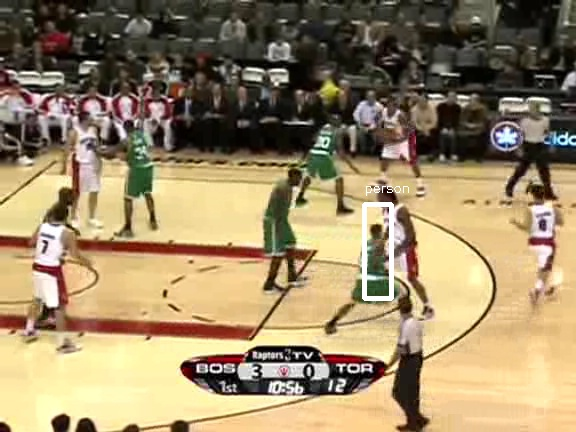person: (358, 235, 392, 316), (357, 235, 391, 316), (359, 235, 393, 316), (358, 234, 392, 315), (358, 236, 392, 317)
target_negative: (158, 17, 527, 399), (392, 230, 562, 403), (81, 214, 196, 262), (467, 396, 568, 418), (506, 226, 537, 286), (514, 280, 522, 359)
